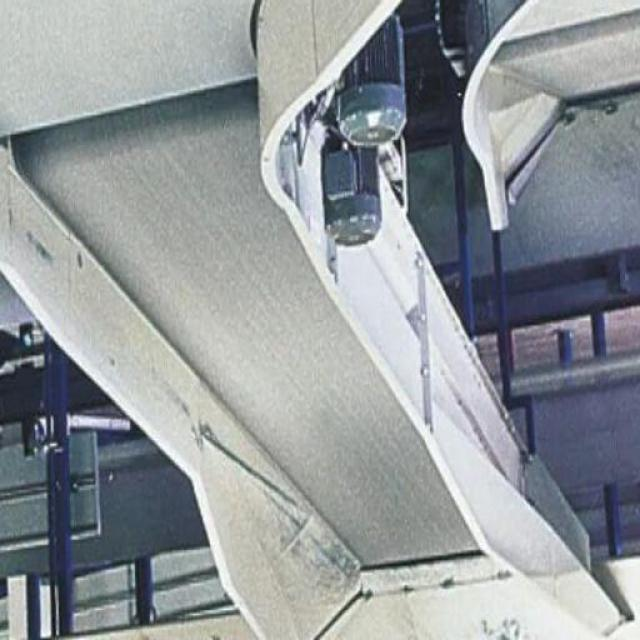conveyor: (6, 97, 489, 572)
